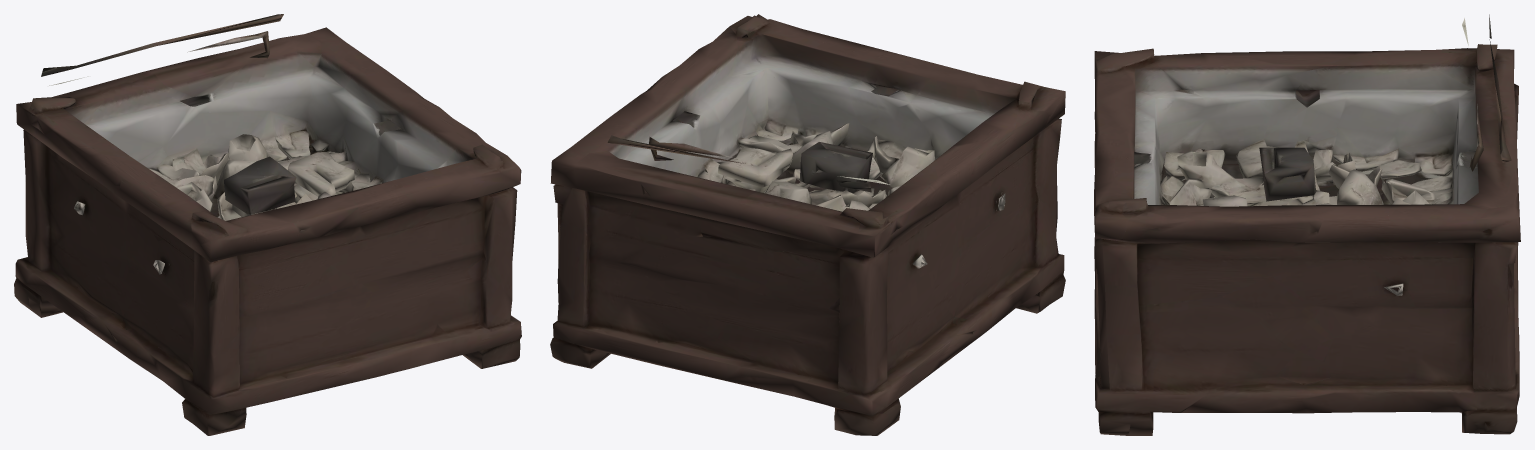
The model's file is hibachi.glb.
3 renders of one model, left to right at view 1: azimuth 30°, elevation 25°; view 2: azimuth 150°, elevation 25°; view 3: azimuth 270°, elevation 25°, orthographic. The views are drawn at different scales.
Parts seen in each view (by area): view 1: tripo_node_c856b4f5-a7ac-4d98-98a5-6f97562193f3; view 2: tripo_node_c856b4f5-a7ac-4d98-98a5-6f97562193f3; view 3: tripo_node_c856b4f5-a7ac-4d98-98a5-6f97562193f3.
Part boxes in pixels (bbox=[...]): tripo_node_c856b4f5-a7ac-4d98-98a5-6f97562193f3: bbox=[14, 14, 521, 435]; tripo_node_c856b4f5-a7ac-4d98-98a5-6f97562193f3: bbox=[550, 14, 1065, 435]; tripo_node_c856b4f5-a7ac-4d98-98a5-6f97562193f3: bbox=[1094, 14, 1520, 435].
Size of the model in its own units: 0.9526 by 0.6744 by 1.
1 material, 1 textured.
